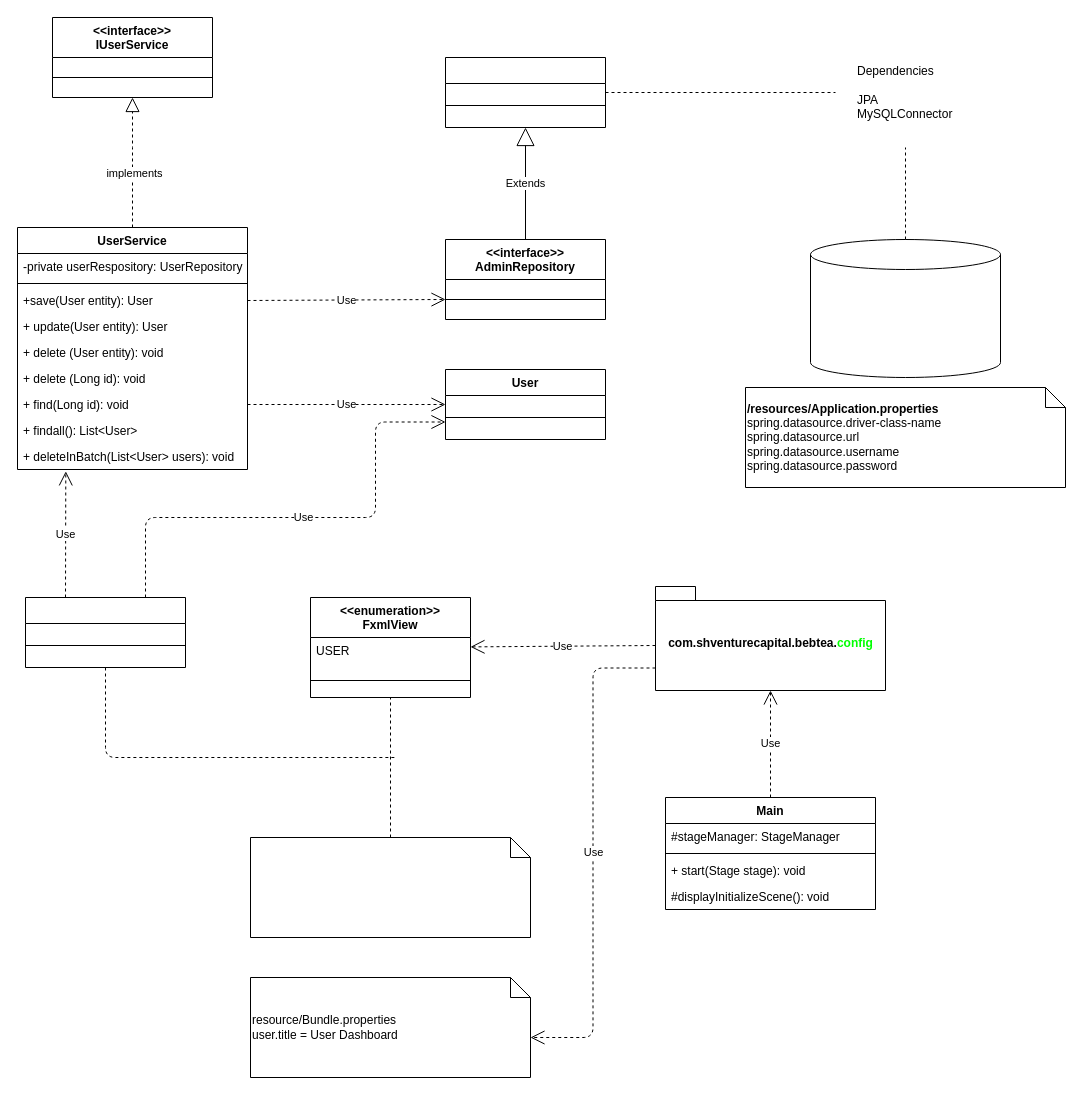
This 1083x1095 diagram has some shape labels left out. The centre of each missing label's shape, as x and y in pixels:
"/resource/fxml/User.fxml /resource/fxml/Order.fxml /resource/fxml/Supplies.fxml" goes at [390,887].
"database: shventurecapital table: user table: supplt" goes at [905,308].
"JpaRepository" goes at [525,92].
"UserController" goes at [105,632].
